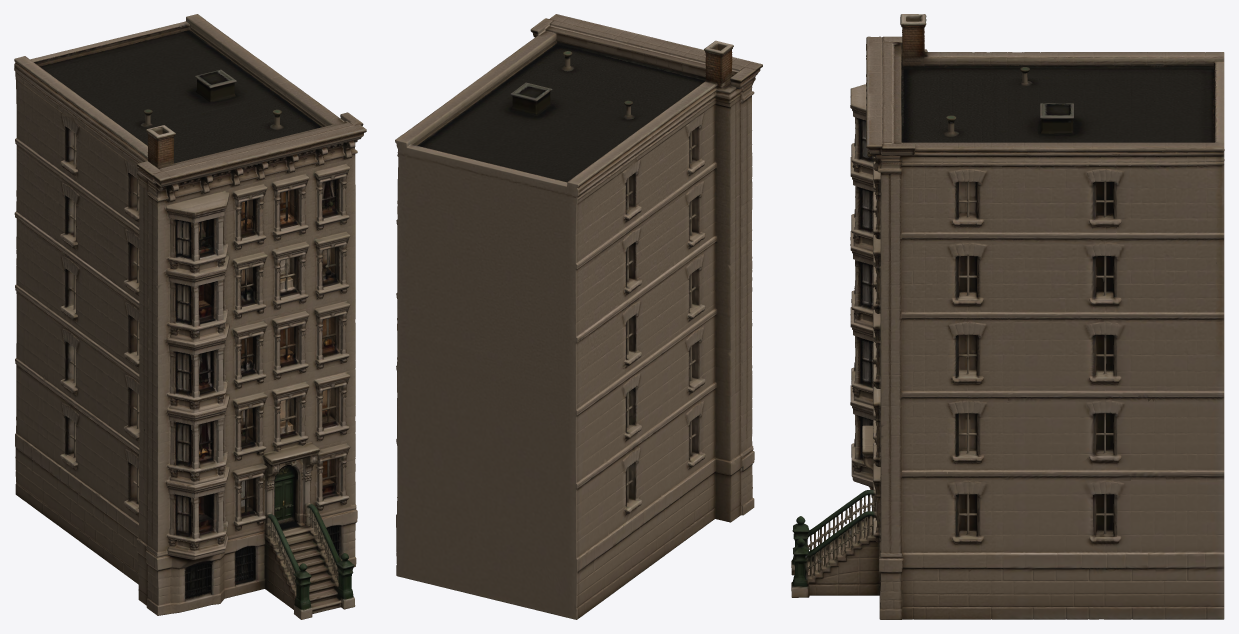
Rendered from tripo_convert_aa29ae56-77e0-4e65-a59a-53c6c90c5c27.fbx.
3 renders of one model, left to right at view 1: azimuth 30°, elevation 25°; view 2: azimuth 150°, elevation 25°; view 3: azimuth 270°, elevation 25°, orthographic. The views are drawn at different scales.
Parts seen in each view (by area): view 1: tripo_node_aa29ae56; view 2: tripo_node_aa29ae56; view 3: tripo_node_aa29ae56.
Part boxes in pixels (x1,y1,x2,y2): tripo_node_aa29ae56: [14, 14, 366, 619]; tripo_node_aa29ae56: [395, 14, 762, 619]; tripo_node_aa29ae56: [791, 14, 1224, 619].
Size of the model in its own units: 0.4611 by 0.978 by 0.7567.
1 material, 1 textured.
